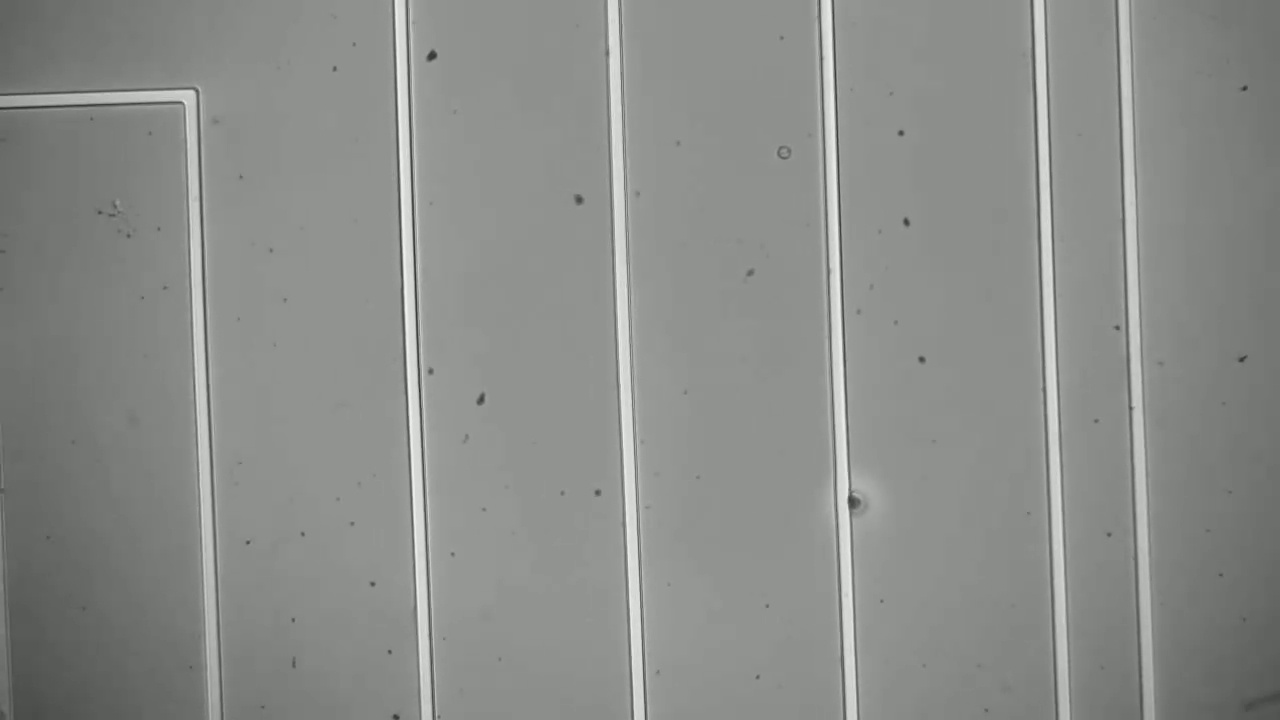stains_enbedded: (832, 491, 875, 526)
